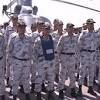uniform: (29, 31, 54, 94), (8, 29, 32, 89), (57, 29, 79, 91), (81, 28, 97, 90)
